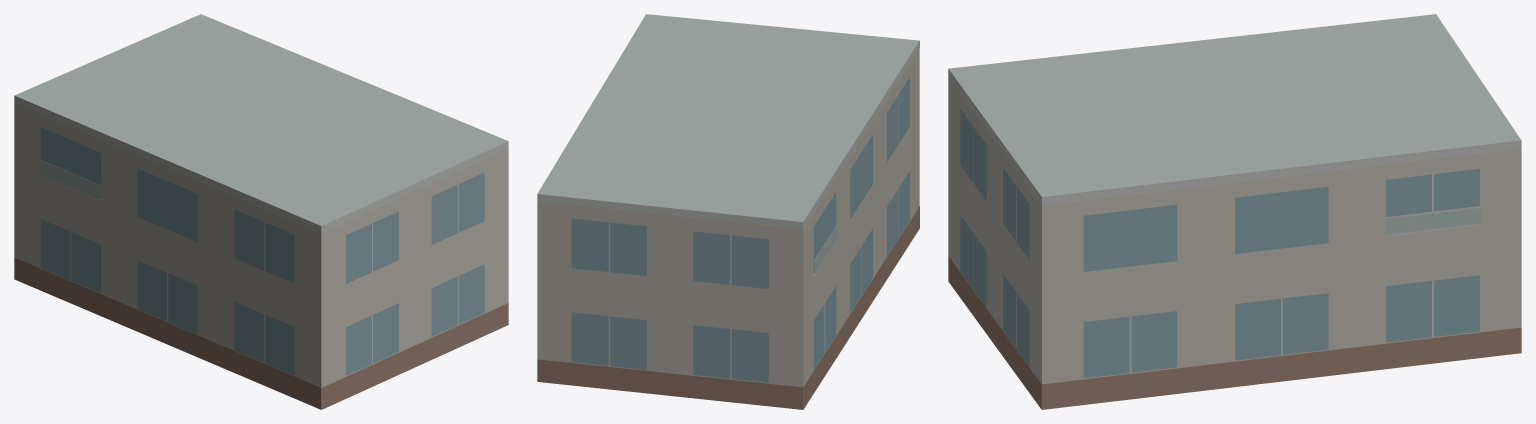
File: survey-upis-32966505.glb
The picture shows the model from 3 angles, left to right: view 1: azimuth 30°, elevation 25°; view 2: azimuth 150°, elevation 25°; view 3: azimuth 270°, elevation 25°; orthographic projection. The views are drawn at different scales.
Parts seen in each view (by area): view 1: survey-upis-32966505.tmp; view 2: survey-upis-32966505.tmp; view 3: survey-upis-32966505.tmp.
Part boxes in pixels (<box>): survey-upis-32966505.tmp: <box>14,14,508,409</box>; survey-upis-32966505.tmp: <box>537,14,919,409</box>; survey-upis-32966505.tmp: <box>948,14,1521,409</box>.
Bounding box in the file's own units: 11.27 × 6.1 × 14.9.
